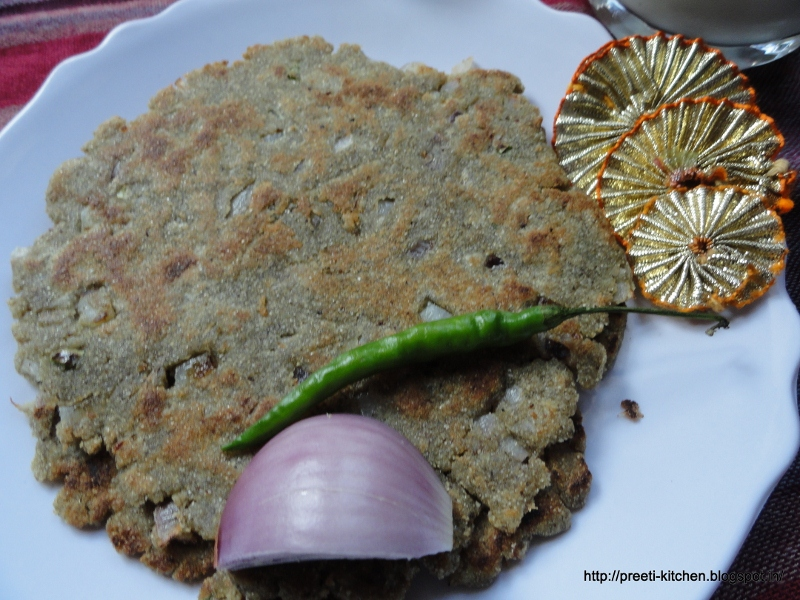aloo_paratha: (9, 44, 619, 600)
